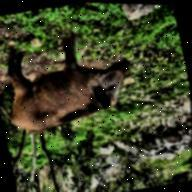boar: (0, 21, 141, 145)
